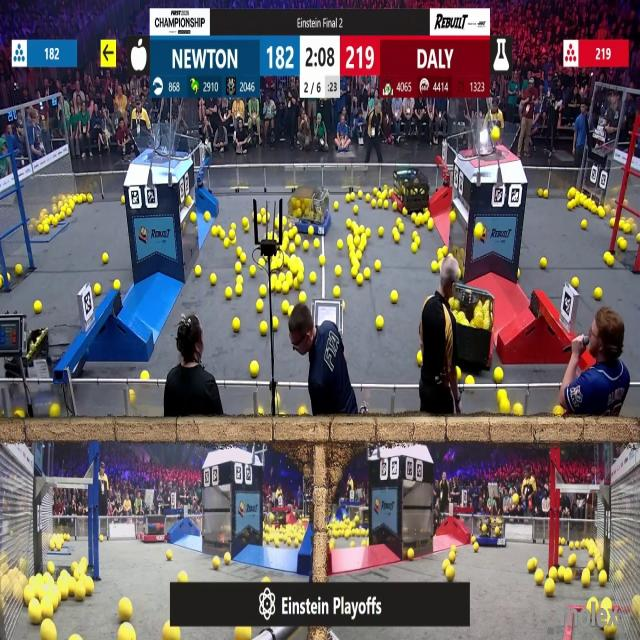ball_airborne: (237, 627, 251, 639), (492, 128, 500, 141), (514, 494, 520, 504), (498, 111, 503, 120)
ball_ground: (118, 599, 132, 622), (30, 604, 42, 624), (118, 625, 132, 640), (604, 625, 615, 640), (42, 603, 53, 618), (543, 581, 553, 597), (582, 570, 592, 586), (75, 587, 85, 602), (250, 360, 259, 376), (86, 581, 95, 597), (499, 402, 509, 416), (473, 223, 482, 238), (598, 571, 607, 585), (446, 566, 455, 580), (50, 406, 59, 420), (534, 570, 543, 584), (178, 570, 188, 582), (528, 558, 536, 572), (494, 367, 502, 380), (377, 316, 384, 330), (234, 318, 241, 332), (390, 290, 398, 302), (515, 405, 523, 417), (259, 322, 267, 334), (212, 557, 220, 569), (568, 555, 576, 567), (550, 567, 558, 579), (564, 570, 572, 582), (554, 408, 563, 418), (498, 390, 507, 400), (35, 302, 42, 314), (595, 287, 602, 299), (225, 286, 232, 298), (256, 301, 263, 313), (95, 283, 102, 295), (210, 274, 217, 286), (223, 553, 230, 565), (620, 239, 627, 251), (259, 285, 266, 297), (310, 273, 317, 285), (417, 351, 423, 365), (606, 253, 613, 265), (298, 291, 305, 302), (408, 550, 415, 561), (236, 264, 243, 275), (539, 257, 546, 268), (296, 273, 303, 284), (568, 187, 575, 198), (276, 282, 283, 293), (602, 598, 609, 609), (273, 318, 279, 330), (194, 266, 200, 278), (250, 266, 256, 278), (465, 376, 473, 385), (456, 366, 462, 378), (351, 268, 357, 280), (15, 411, 23, 420), (588, 561, 596, 570), (47, 562, 53, 574), (262, 214, 270, 223), (102, 252, 109, 262), (282, 303, 289, 313), (363, 270, 370, 280), (142, 369, 149, 379), (356, 276, 363, 286), (294, 236, 301, 246), (292, 280, 299, 290), (625, 222, 632, 232), (335, 286, 341, 297), (15, 266, 21, 277), (376, 262, 382, 273), (336, 267, 342, 278), (283, 283, 289, 294), (359, 238, 365, 249), (444, 560, 451, 569), (298, 408, 305, 417), (114, 280, 120, 290), (237, 284, 243, 294), (432, 263, 438, 273), (338, 240, 344, 250), (572, 278, 578, 288), (319, 255, 325, 265), (412, 243, 418, 253), (427, 219, 433, 229), (379, 226, 385, 236), (219, 230, 225, 240), (304, 242, 310, 252), (289, 244, 295, 254), (450, 553, 456, 563), (413, 232, 419, 242), (347, 218, 353, 228), (212, 228, 218, 238), (348, 235, 354, 245), (335, 202, 341, 212), (271, 262, 277, 272), (588, 602, 594, 612), (279, 272, 285, 282), (352, 222, 358, 232), (450, 296, 456, 306), (579, 220, 586, 228), (282, 238, 289, 246), (392, 203, 398, 212), (258, 257, 264, 266), (237, 247, 243, 256), (370, 199, 376, 208), (609, 218, 615, 227), (356, 250, 362, 259), (205, 212, 211, 221), (228, 230, 234, 239), (275, 218, 281, 227), (88, 193, 94, 202), (354, 237, 360, 246), (436, 249, 442, 258), (186, 197, 192, 206), (365, 193, 371, 202), (451, 212, 456, 222), (309, 225, 314, 235), (190, 212, 195, 222), (284, 254, 289, 264), (458, 271, 463, 281), (264, 576, 271, 583), (167, 552, 173, 560), (472, 542, 478, 550), (237, 276, 243, 284), (258, 409, 264, 417), (568, 202, 574, 210), (365, 230, 371, 238), (272, 274, 278, 282), (43, 224, 49, 232), (598, 210, 604, 218), (259, 208, 265, 216), (620, 220, 626, 228), (424, 210, 430, 218), (315, 240, 320, 249), (394, 234, 399, 243), (223, 239, 228, 248), (243, 217, 248, 226), (241, 254, 246, 263), (444, 246, 449, 255), (256, 214, 261, 223), (282, 217, 287, 226), (559, 546, 564, 555), (451, 543, 457, 550), (358, 225, 364, 232), (362, 539, 368, 546), (350, 540, 356, 547), (398, 224, 403, 232), (413, 213, 418, 221), (244, 224, 249, 232), (346, 193, 351, 201), (70, 635, 78, 640), (393, 226, 398, 234), (396, 217, 401, 225), (67, 208, 72, 216), (355, 262, 360, 270), (517, 272, 522, 280), (384, 201, 388, 210), (636, 235, 640, 244), (298, 265, 302, 274), (276, 250, 282, 256), (569, 541, 574, 548), (269, 234, 274, 241), (560, 537, 565, 544), (402, 208, 406, 216), (538, 188, 542, 196), (543, 189, 547, 197), (357, 194, 361, 202), (354, 207, 358, 214), (233, 222, 237, 229), (0, 275, 4, 282), (120, 197, 123, 205), (471, 536, 475, 542), (100, 535, 104, 541), (292, 226, 296, 232)
goal: (464, 126, 523, 160), (130, 131, 188, 160)
robot_blue: (288, 185, 333, 237), (477, 517, 506, 546)
robot_red: (453, 284, 494, 377), (391, 166, 430, 212), (138, 516, 168, 542)
